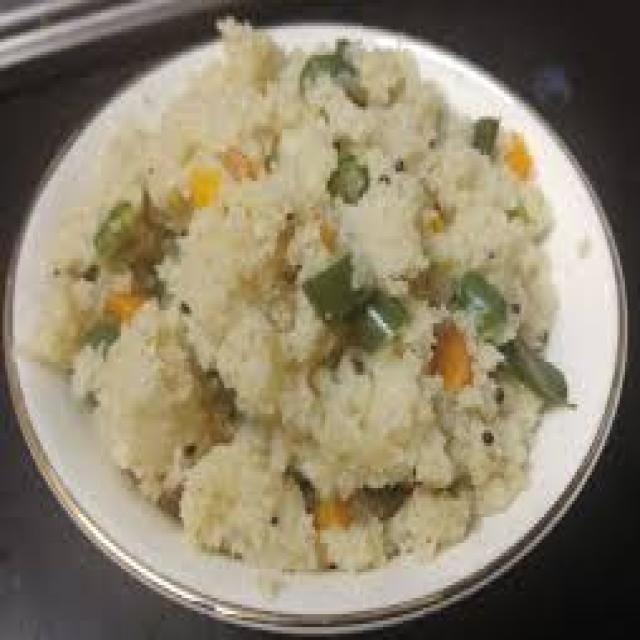Wet Waste: (54, 27, 563, 560)
